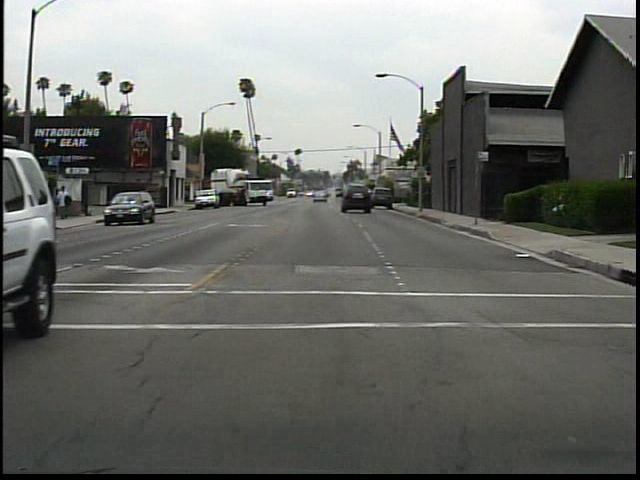person: (53, 181, 75, 226)
